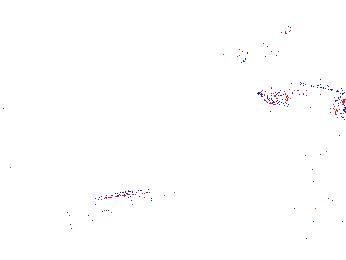glassfish: (67, 183, 177, 220), (254, 81, 346, 110)
redtail glassfish: (233, 22, 298, 66), (253, 1, 311, 24)
